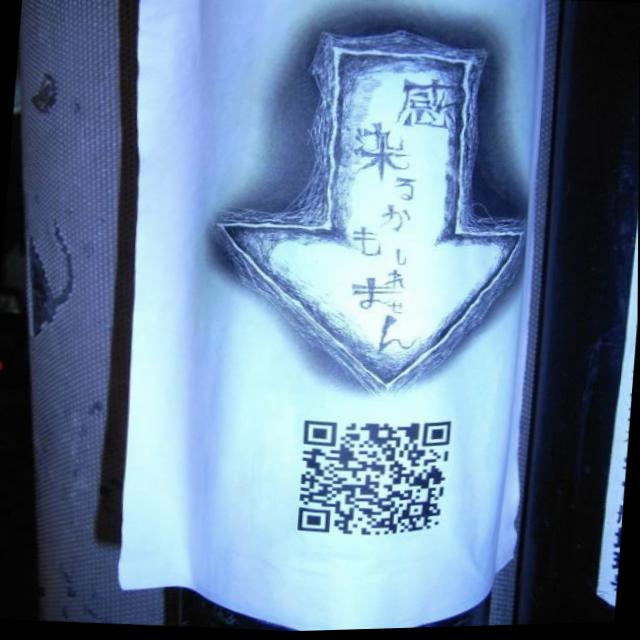qrcode: (297, 414, 451, 544)
